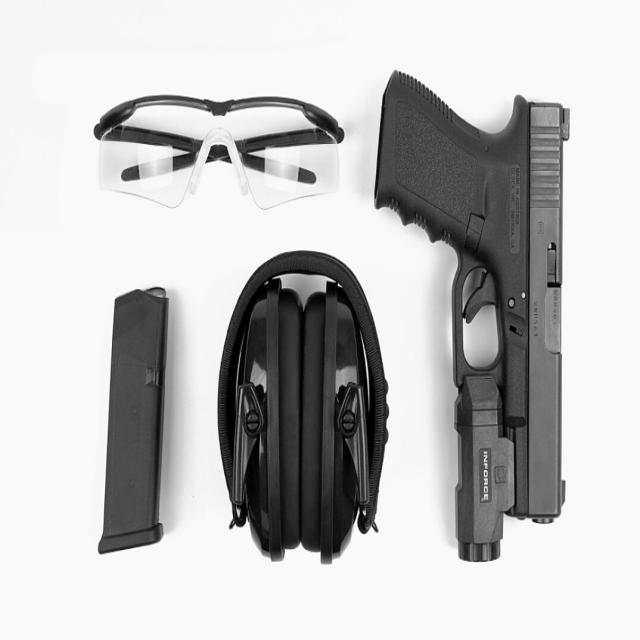Hand-Gun: (368, 57, 596, 583)
